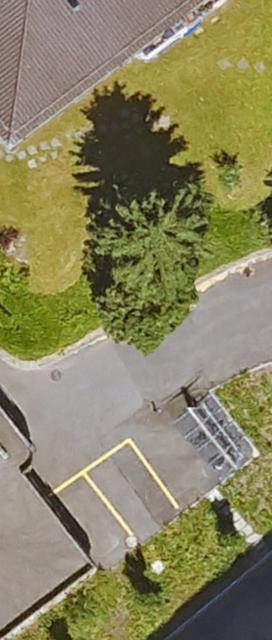tree: (89, 184, 201, 320)
